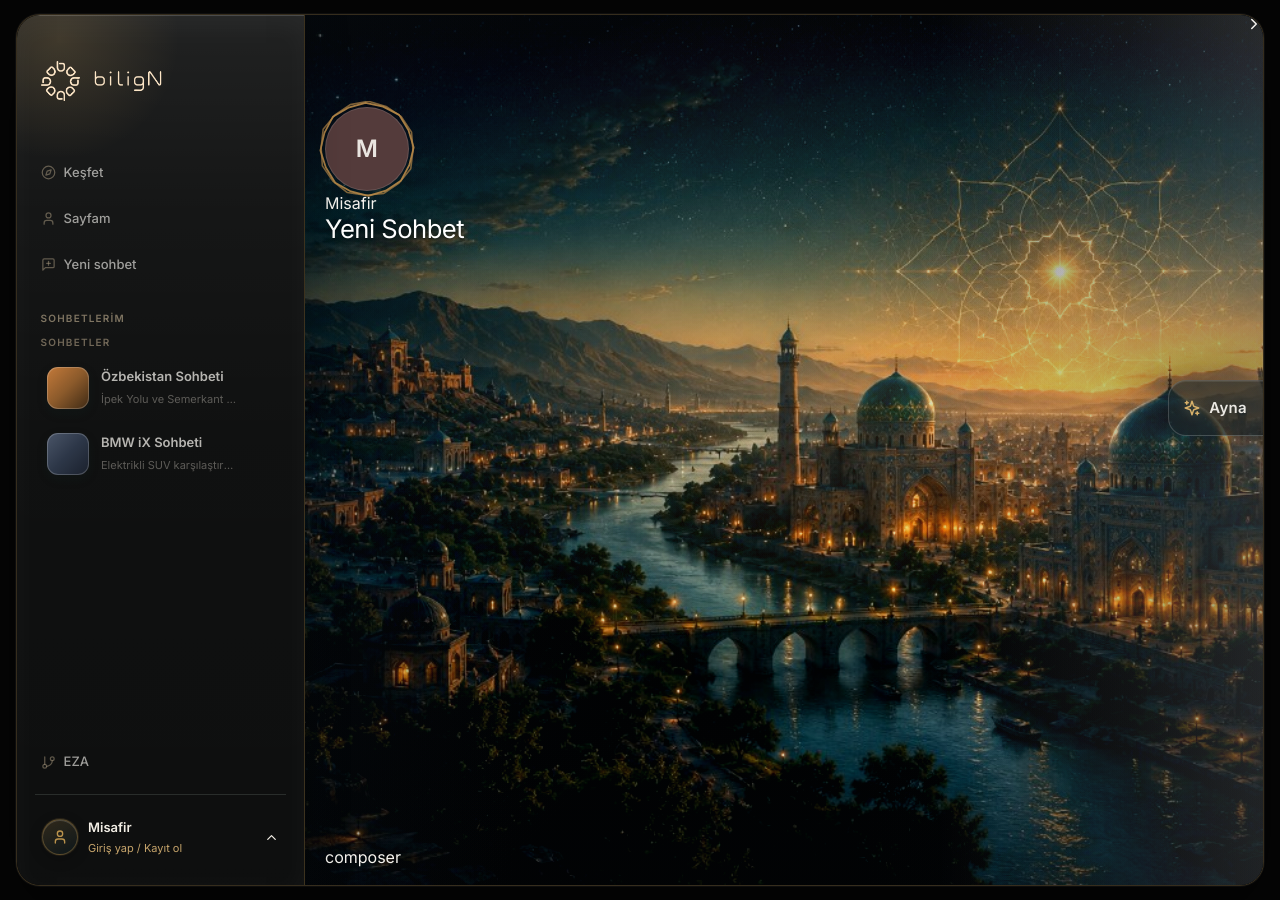
Test: SainaStandaloneShell (Sprint B.2F command palette & notifications) › opens the existing notification empty state through the profile menu
The width and height of the screenshot is (1280, 900).
Click the button with test id "saina-profile-menu-trigger": click(160, 837) [35, 807, 286, 867]
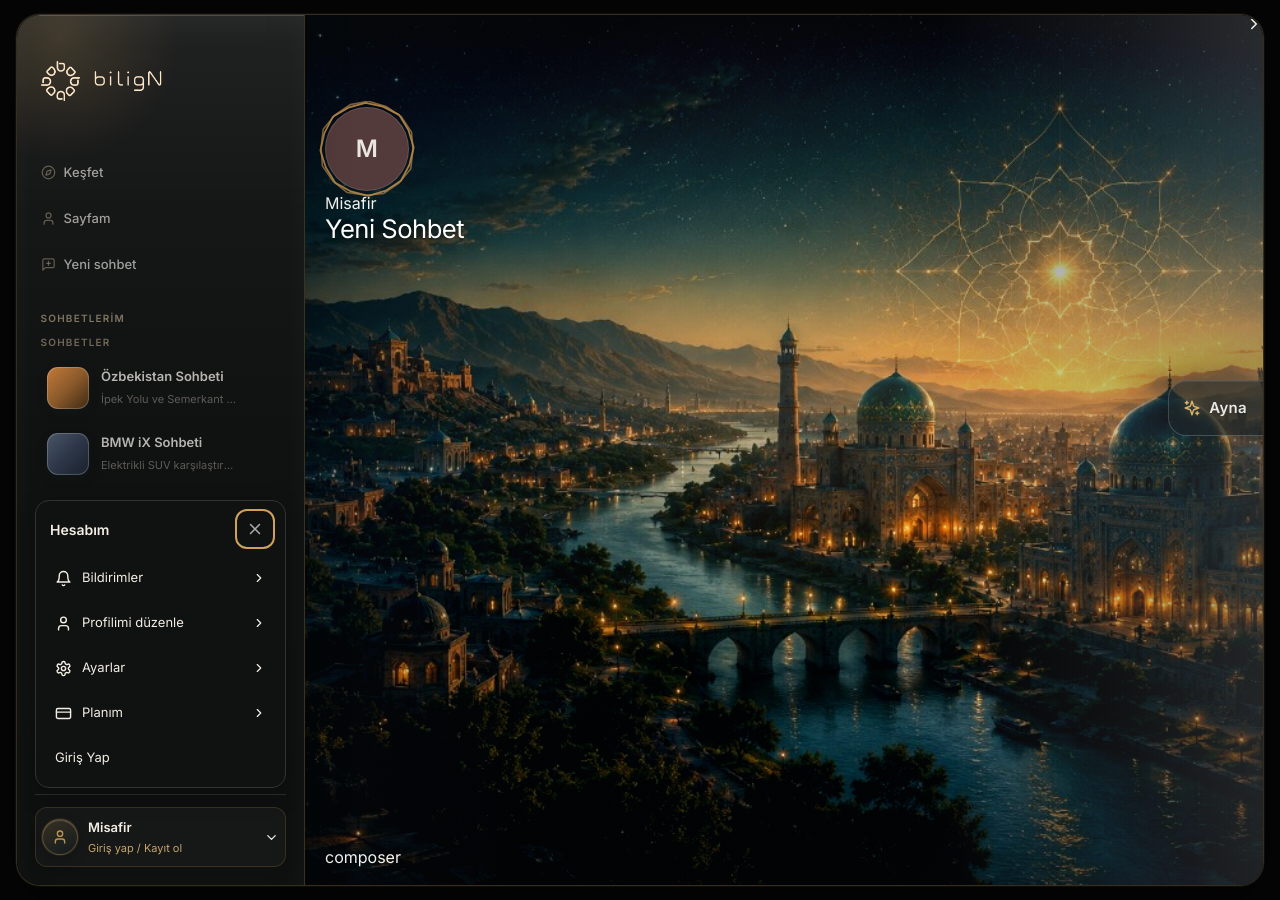
Click the button with test id "saina-profile-nav-notifications": click(160, 578) [44, 557, 277, 599]
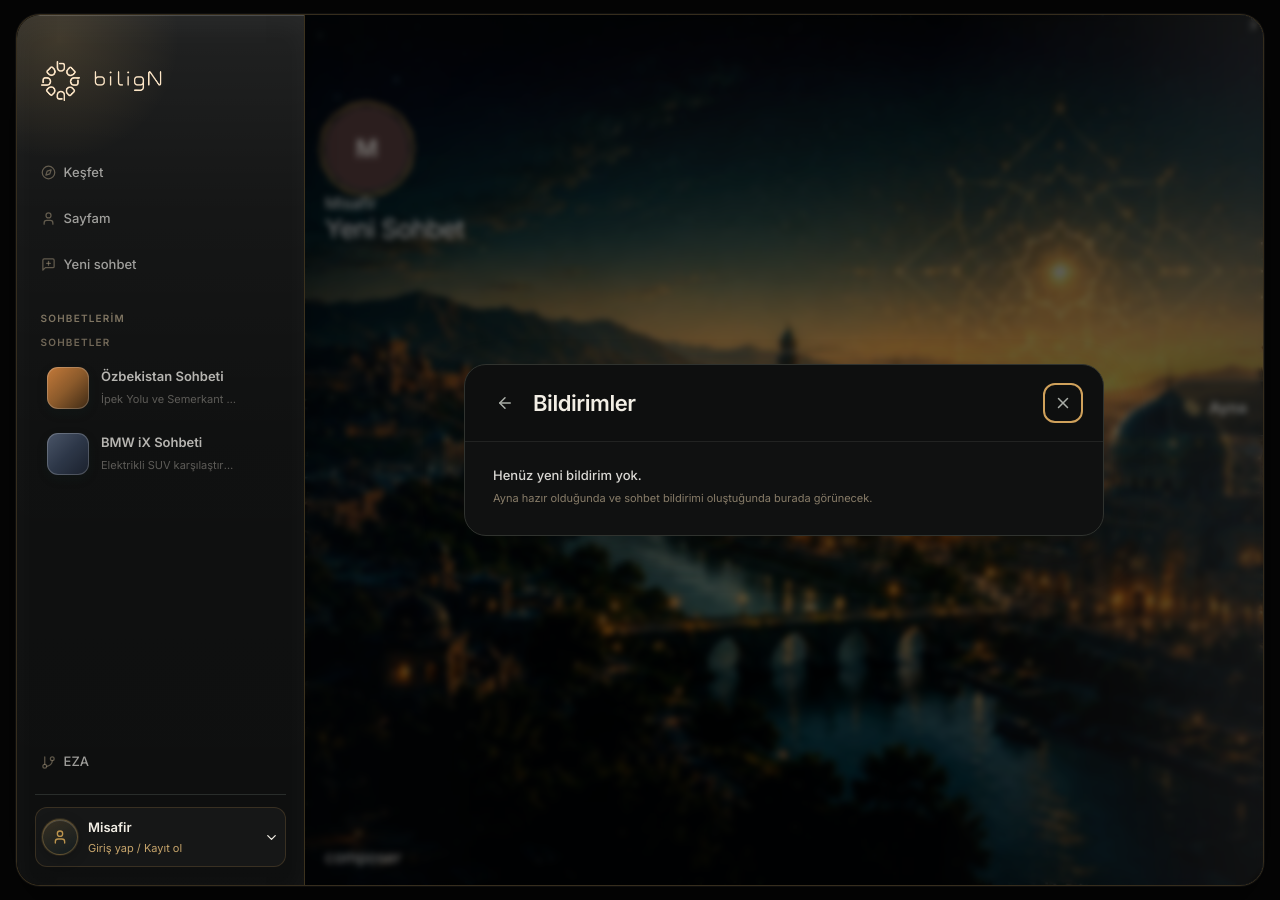
Result: the element with test id "saina-notifications-empty" is shown at [493, 467, 872, 505]
Result: the text "Henüz yeni bildirim yok." is shown at [493, 467, 642, 483]
